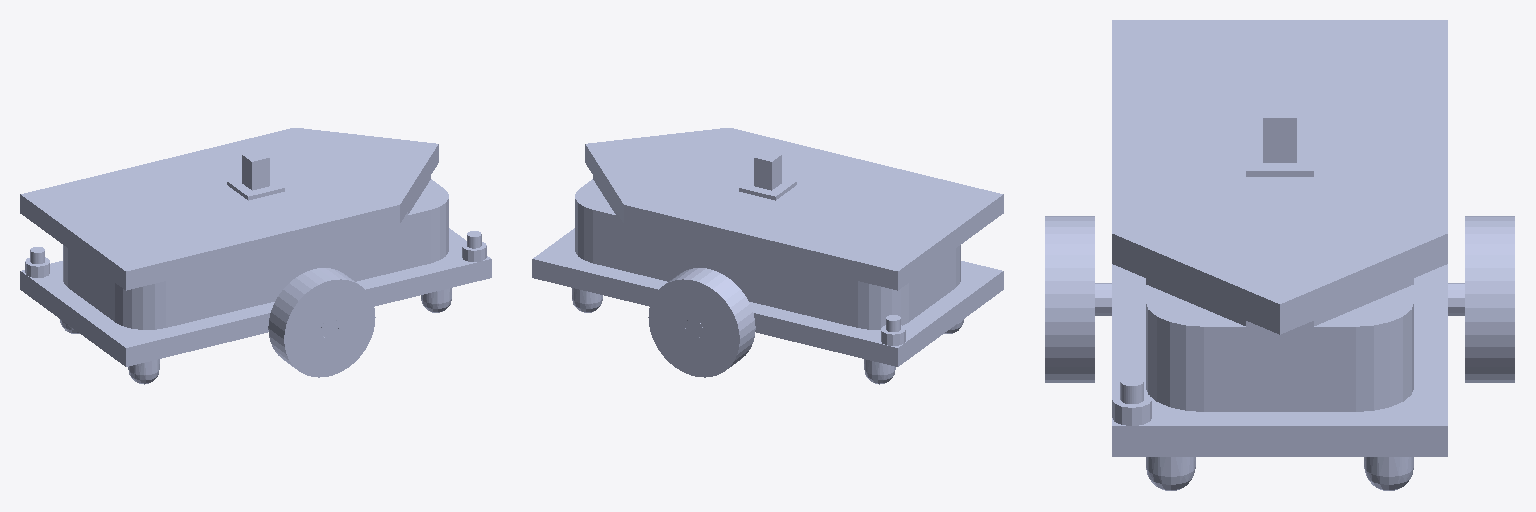
URDF robot description (ax_dolly):
<?xml version="1.0" encoding="utf-8"?>
<!-- This URDF was automatically created by SolidWorks to URDF Exporter! Originally created by [author] ([email redacted]) 
     Commit Version: 1.6.0-4-g7f85cfe  Build Version: 1.6.7995.38578
     For more information, please see http://wiki.ros.org/sw_urdf_exporter -->
<robot
  name="ax_dolly">
  <link
    name="base_link">
    <inertial>
      <origin
        xyz="-0.00270434158045469 0 0.0237753006001797"
        rpy="0 0 0" />
      <mass
        value="0.815245051508145" />
      <inertia
        ixx="0.000747996350479678"
        ixy="5.61324695698701E-06"
        ixz="4.6065911377744E-05"
        iyy="0.00253979851645423"
        iyz="-1.28573126453128E-20"
        izz="0.0028879451739071" />
    </inertial>
    <visual>
      <origin
        xyz="0 0 0"
        rpy="0 0 0" />
      <geometry>
        <mesh
          filename="package://ax_dolly/meshes/base_link.STL" />
      </geometry>
      <material
        name="">
        <color
          rgba="0.792156862745098 0.819607843137255 0.933333333333333 1" />
      </material>
    </visual>
    <collision>
      <origin
        xyz="0 0 0"
        rpy="0 0 0" />
      <geometry>
        <mesh
          filename="package://ax_dolly/meshes/base_link.STL" />
      </geometry>
    </collision>
  </link>
  <link
    name="wheelright_link">
    <inertial>
      <origin
        xyz="-0.0075 0 -1.7347E-18"
        rpy="0 0 0" />
      <mass
        value="0.028274" />
      <inertia
        ixx="9.1892E-06"
        ixy="1.1099E-38"
        ixz="1.096E-38"
        iyy="5.1247E-06"
        iyz="-1.1248E-40"
        izz="5.1247E-06" />
    </inertial>
    <visual>
      <origin
        xyz="0 0 0"
        rpy="0 0 0" />
      <geometry>
        <mesh
          filename="package://ax_dolly/meshes/wheelright_link.STL" />
      </geometry>
      <material
        name="">
        <color
          rgba="0.79216 0.81961 0.93333 1" />
      </material>
    </visual>
    <collision>
      <origin
        xyz="0 0 0"
        rpy="0 0 0" />
      <geometry>
        <mesh
          filename="package://ax_dolly/meshes/wheelright_link.STL" />
      </geometry>
    </collision>
  </link>
  <joint
    name="wheelright_joint"
    type="continuous">
    <origin
      xyz="0 -0.07 0.005"
      rpy="1.5708 0 -1.5708" />
    <parent
      link="base_link" />
    <child
      link="wheelright_link" />
    <axis
      xyz="-1 0 0" />
  </joint>
  <link
    name="wheelleft_link">
    <inertial>
      <origin
        xyz="0.0075 0 -1.7347E-18"
        rpy="0 0 0" />
      <mass
        value="0.028274" />
      <inertia
        ixx="9.1892E-06"
        ixy="1.1099E-38"
        ixz="2.4757E-37"
        iyy="5.1247E-06"
        iyz="-1.1248E-40"
        izz="5.1247E-06" />
    </inertial>
    <visual>
      <origin
        xyz="0 0 0"
        rpy="0 0 0" />
      <geometry>
        <mesh
          filename="package://ax_dolly/meshes/wheelleft_link.STL" />
      </geometry>
      <material
        name="">
        <color
          rgba="0.79216 0.81961 0.93333 1" />
      </material>
    </visual>
    <collision>
      <origin
        xyz="0 0 0"
        rpy="0 0 0" />
      <geometry>
        <mesh
          filename="package://ax_dolly/meshes/wheelleft_link.STL" />
      </geometry>
    </collision>
  </link>
  <joint
    name="wheelleft_joint"
    type="continuous">
    <origin
      xyz="0 0.07 0.005"
      rpy="1.5708 0 -1.5708" />
    <parent
      link="base_link" />
    <child
      link="wheelleft_link" />
    <axis
      xyz="-1 0 0" />
  </joint>
  <link
    name="frontlidar_link">
    <inertial>
      <origin
        xyz="-6.9389E-18 0.003 -1.3878E-17"
        rpy="0 0 0" />
      <mass
        value="0.00023091" />
      <inertia
        ixx="1.3999E-09"
        ixy="1.4221E-25"
        ixz="-1.635E-25"
        iyy="1.4143E-09"
        iyz="-3.2036E-26"
        izz="1.3999E-09" />
    </inertial>
    <visual>
      <origin
        xyz="0 0 0"
        rpy="0 0 0" />
      <geometry>
        <mesh
          filename="package://ax_dolly/meshes/frontlidar_link.STL" />
      </geometry>
      <material
        name="">
        <color
          rgba="0.79216 0.81961 0.93333 1" />
      </material>
    </visual>
    <collision>
      <origin
        xyz="0 0 0"
        rpy="0 0 0" />
      <geometry>
        <mesh
          filename="package://ax_dolly/meshes/frontlidar_link.STL" />
      </geometry>
    </collision>
  </link>
  <joint
    name="frontlidar_joint"
    type="fixed">
    <origin
      xyz="0.094 -0.044 0.016"
      rpy="1.5708 0 -1.5708" />
    <parent
      link="base_link" />
    <child
      link="frontlidar_link" />
    <axis
      xyz="0 0 0" />
  </joint>
  <link
    name="backlidar_link">
    <inertial>
      <origin
        xyz="1.3878E-17 6.9389E-18 0.003"
        rpy="0 0 0" />
      <mass
        value="0.00023091" />
      <inertia
        ixx="1.3999E-09"
        ixy="0"
        ixz="5.3629E-42"
        iyy="1.3999E-09"
        iyz="4.6853E-42"
        izz="1.4143E-09" />
    </inertial>
    <visual>
      <origin
        xyz="0 0 0"
        rpy="0 0 0" />
      <geometry>
        <mesh
          filename="package://ax_dolly/meshes/backlidar_link.STL" />
      </geometry>
      <material
        name="">
        <color
          rgba="0.79216 0.81961 0.93333 1" />
      </material>
    </visual>
    <collision>
      <origin
        xyz="0 0 0"
        rpy="0 0 0" />
      <geometry>
        <mesh
          filename="package://ax_dolly/meshes/backlidar_link.STL" />
      </geometry>
    </collision>
  </link>
  <joint
    name="backlidar_joint"
    type="fixed">
    <origin
      xyz="-0.094 0.044 0.016"
      rpy="0 0 0" />
    <parent
      link="base_link" />
    <child
      link="backlidar_link" />
    <axis
      xyz="0 0 0" />
  </joint>
  <link
    name="imu_link">
    <inertial>
      <origin
        xyz="0 -3.4694E-18 0.0075"
        rpy="0 0 0" />
      <mass
        value="0.0015" />
      <inertia
        ixx="4.0625E-08"
        ixy="-5.0628E-25"
        ixz="4.8789E-25"
        iyy="4.0625E-08"
        iyz="-8.488E-25"
        izz="2.5E-08" />
    </inertial>
    <visual>
      <origin
        xyz="0 0 0"
        rpy="0 0 0" />
      <geometry>
        <mesh
          filename="package://ax_dolly/meshes/imu_link.STL" />
      </geometry>
      <material
        name="">
        <color
          rgba="0.79216 0.81961 0.93333 1" />
      </material>
    </visual>
    <collision>
      <origin
        xyz="0 0 0"
        rpy="0 0 0" />
      <geometry>
        <mesh
          filename="package://ax_dolly/meshes/imu_link.STL" />
      </geometry>
    </collision>
  </link>
  <joint
    name="imu_joint"
    type="fixed">
    <origin
      xyz="0 0 0.052"
      rpy="0 0 0" />
    <parent
      link="base_link" />
    <child
      link="imu_link" />
    <axis
      xyz="0 0 0" />
  </joint>
  <gazebo>
  <plugin name="differential_drive_controller" filename="libgazebo_ros_diff_drive.so">

    <!-- Plugin update rate in Hz -->
    <updateRate>10</updateRate>

    <!-- Name of left joint, defaults to `left_joint` -->
    <leftJoint>wheelleft_joint</leftJoint>

    <!-- Name of right joint, defaults to `right_joint` -->
    <rightJoint>wheelright_joint</rightJoint>

    <!-- The distance from the center of one wheel to the other, in meters, defaults to 0.34 m -->
    <wheelSeparation>0.5380</wheelSeparation>

    <!-- Diameter of the wheels, in meters, defaults to 0.15 m -->
    <wheelDiameter>0.600</wheelDiameter>

    <!-- Wheel acceleration, in rad/s^2, defaults to 0.0 rad/s^2 -->
    <wheelAcceleration>1.0</wheelAcceleration>

    <!-- Maximum torque which the wheels can produce, in Nm, defaults to 5 Nm -->
    <wheelTorque>20</wheelTorque>

    <!-- Topic to receive geometry_msgs/Twist message commands, defaults to `cmd_vel` -->
    <commandTopic>cmd_vel</commandTopic>

    <!-- Topic to publish nav_msgs/Odometry messages, defaults to `odom` -->
    <odometryTopic>odom</odometryTopic>

    <!-- Odometry frame, defaults to `odom` -->
    <odometryFrame>odom</odometryFrame>

    <!-- Robot frame to calculate odometry from, defaults to `base_footprint` -->
    <robotBaseFrame>base_link</robotBaseFrame>

    <!-- Odometry source, 0 for ENCODER, 1 for WORLD, defaults to WORLD -->
    <odometrySource>1</odometrySource>

    <!-- Set to true to publish transforms for the wheel links, defaults to false -->
    <publishWheelTF>true</publishWheelTF>

    <!-- Set to true to publish transforms for the odometry, defaults to true -->
    <publishOdom>true</publishOdom>

    <!-- Set to true to publish sensor_msgs/JointState on /joint_states for the wheel joints, defaults to false -->
    <publishWheelJointState>true</publishWheelJointState>

    <!-- Set to true to swap right and left wheels, defaults to true -->
    <legacyMode>false</legacyMode>
  </plugin>
</gazebo>
<gazebo reference="frontlidar_link">
    <sensor type="ray" name="head_hokuyo_sensor">
      <pose>0 0 0 0 0 0</pose>
      <visualize>false</visualize>
      <update_rate>40</update_rate>
      <ray>
        <scan>
          <horizontal>
            <samples>720</samples>
            <resolution>1</resolution>
            <min_angle>-1.570796</min_angle>
            <max_angle>1.570796</max_angle>
          </horizontal>
        </scan>
        <range>
          <min>0.10</min>
          <max>30.0</max>
          <resolution>0.01</resolution>
        </range>
        <noise>
          <type>gaussian</type>
          <!-- Noise parameters based on published spec for Hokuyo laser
               achieving "+-30mm" accuracy at range < 10m.  A mean of 0.0m and
               stddev of 0.01m will put 99.7% of samples within 0.03m of the true
               reading. -->
          <mean>0.0</mean>
          <stddev>0.01</stddev>
        </noise>
      </ray>
      <plugin name="gazebo_ros_head_hokuyo_controller" filename="libgazebo_ros_laser.so">
        <topicName>/scan0</topicName>
        <frameName>frontlidar_link</frameName>
      </plugin>
    </sensor>
  </gazebo>
  <gazebo reference="backlidar_link">
    <sensor type="ray" name="head_hokuyo_sensor">
      <pose>0 0 0 0 0 0</pose>
      <visualize>false</visualize>
      <update_rate>40</update_rate>
      <ray>
        <scan>
          <horizontal>
            <samples>720</samples>
            <resolution>1</resolution>
            <min_angle>-1.570796</min_angle>
            <max_angle>1.570796</max_angle>
          </horizontal>
        </scan>
        <range>
          <min>0.10</min>
          <max>30.0</max>
          <resolution>0.01</resolution>
        </range>
        <noise>
          <type>gaussian</type>
          <!-- Noise parameters based on published spec for Hokuyo laser
               achieving "+-30mm" accuracy at range < 10m.  A mean of 0.0m and
               stddev of 0.01m will put 99.7% of samples within 0.03m of the true
               reading. -->
          <mean>0.0</mean>
          <stddev>0.01</stddev>
        </noise>
      </ray>
      <plugin name="gazebo_ros_head_hokuyo_controller" filename="libgazebo_ros_laser.so">
        <topicName>/scan1</topicName>
        <frameName>backlidar_link</frameName>
      </plugin>
    </sensor>
  </gazebo>
</robot>

--- Render facts (derived) ---
Views: 3 orthographic renders of the robot side by side, from view 1: azimuth 30°, elevation 25°; view 2: azimuth 150°, elevation 25°; view 3: azimuth 270°, elevation 25°.
Model ax_dolly with 6 links and 5 joints (2 continuous, 3 fixed), rooted at base_link, posed all joints at 0.
Visible links, largest first — view 1: base_link, wheelright_link, imu_link; view 2: base_link, wheelleft_link, imu_link; view 3: base_link, wheelright_link, wheelleft_link, imu_link, frontlidar_link.
Boxes of the visible links, <box> form: base_link: <box>20,128,491,384</box>; wheelright_link: <box>268,268,375,377</box>; imu_link: <box>242,150,269,190</box>; base_link: <box>532,128,1003,384</box>; wheelleft_link: <box>648,268,755,377</box>; imu_link: <box>754,150,781,190</box>; base_link: <box>1095,20,1464,490</box>; wheelright_link: <box>1045,216,1094,382</box>; wheelleft_link: <box>1465,216,1514,382</box>; imu_link: <box>1263,104,1296,162</box>; frontlidar_link: <box>1120,376,1143,403</box>.
Size in the robot's own frame: 0.2 by 0.14 by 0.087 metres.
Meshes: 6 distinct files referenced, 6 mesh visuals loaded (6 binary STL).
